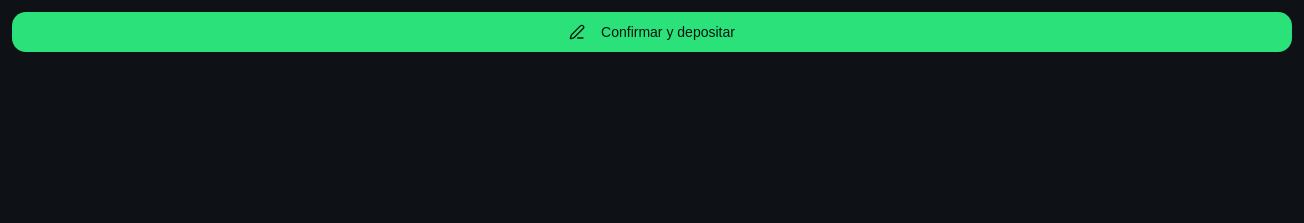
Scenario: selectable Real deposit review › does not sign when the fresh simulation rejects a 5,000 USDC deposit
Click the button "Confirmar y depositar" at (652,32), box x1=12 y1=12 x2=1292 y2=52
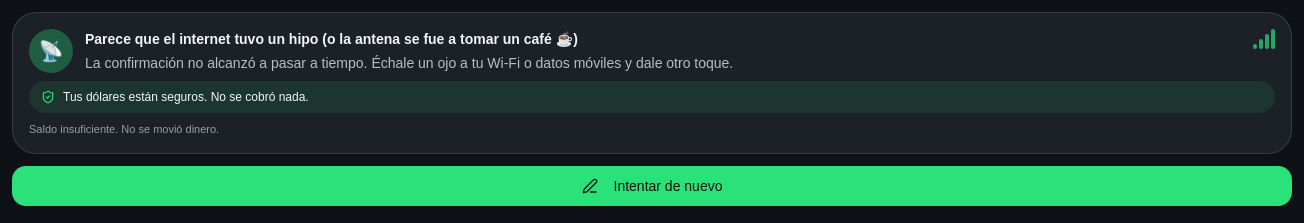
Check: the message is shown
